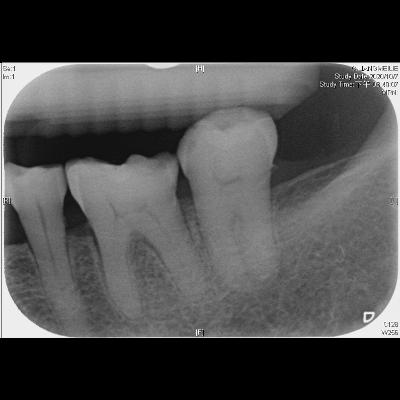tooth: (3, 161, 94, 339)
